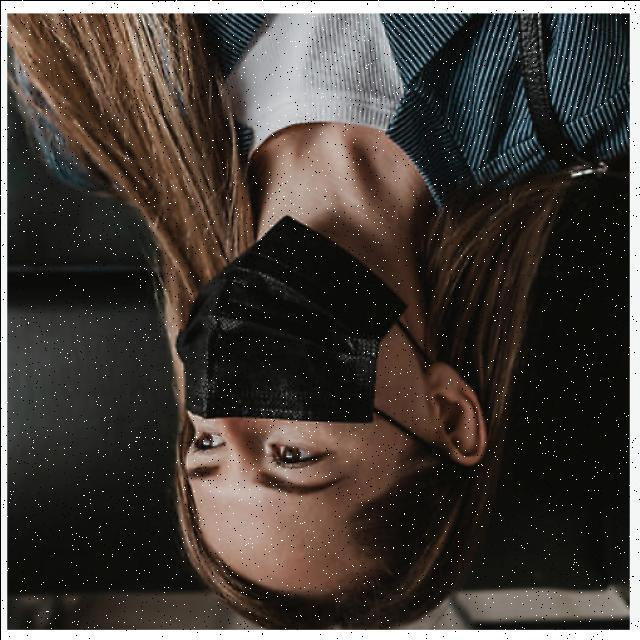face_mask: (176, 226, 490, 608)
